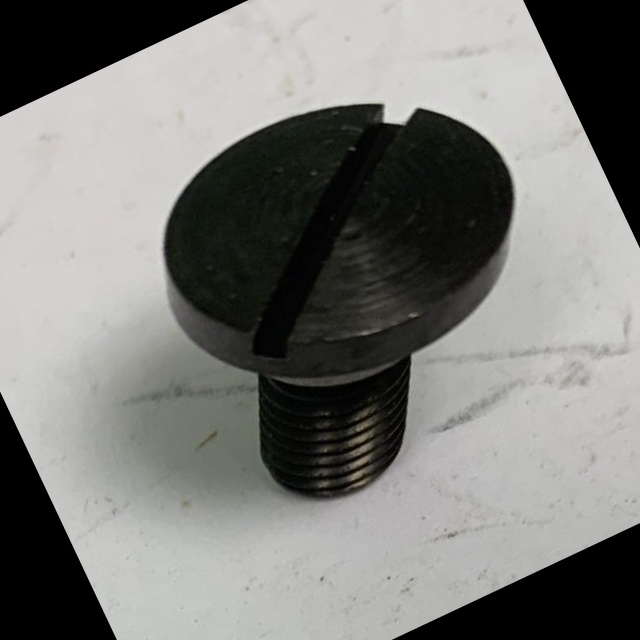duz: (123, 38, 563, 433)
